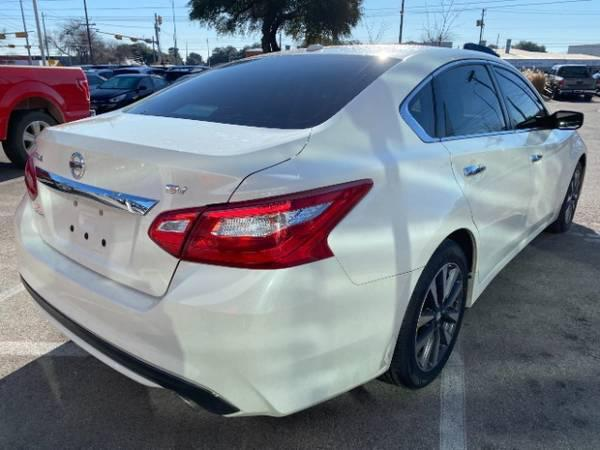Front_Right_Door: (515, 131, 572, 249)
Front_Right_Window: (491, 62, 558, 131)
Rear_Bumper: (15, 192, 424, 413)
Rear_Fender: (225, 72, 472, 284)
Rear_Right_Door: (441, 128, 530, 295)
Rear_Right_Window: (434, 59, 509, 138)
Rear_Windshield: (121, 55, 397, 132)
Right_Taillight: (149, 176, 375, 268)
Roof: (251, 42, 519, 127)
Tailgate: (28, 110, 308, 295)
Wheel: (396, 249, 469, 383)
